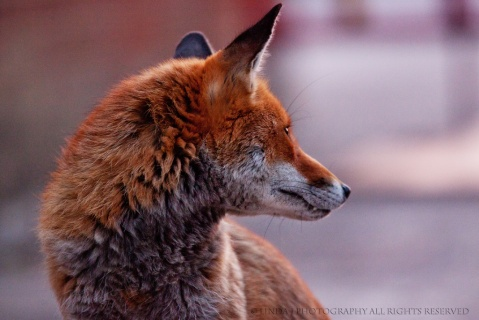Fox: (23, 2, 352, 319)
